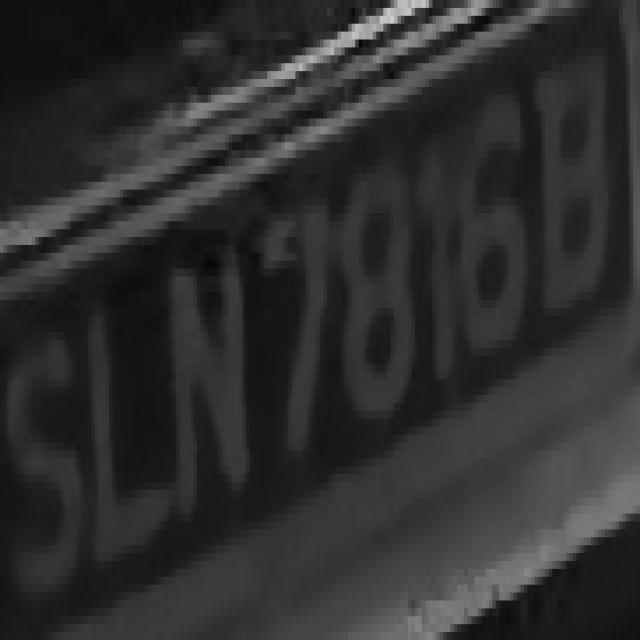1: (412, 102, 464, 434)
6: (450, 87, 528, 395)
7: (250, 198, 338, 506)
8: (334, 134, 415, 434)
B: (541, 39, 612, 332)
L: (78, 268, 166, 592)
N: (162, 229, 264, 545)
S: (14, 292, 81, 624)
